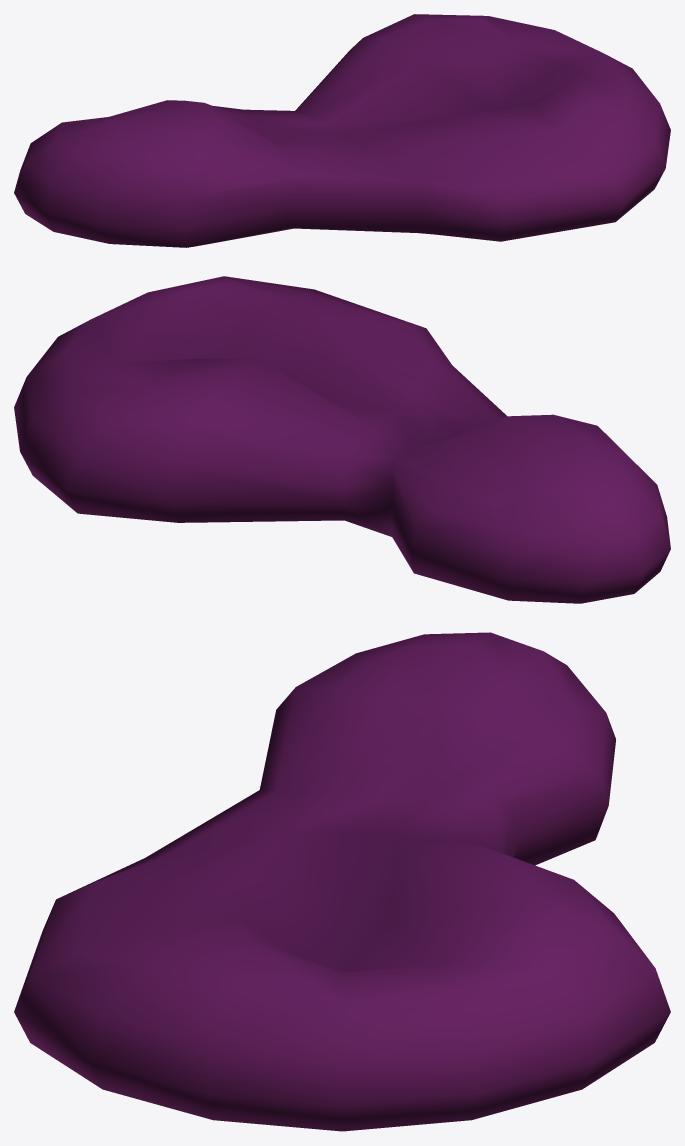
Rendered from Gum_Type4.fbx.
3 views of the same model, one above another, from view 1: azimuth 30°, elevation 25°; view 2: azimuth 150°, elevation 25°; view 3: azimuth 270°, elevation 25° (orthographic). The views are drawn at different scales.
Visible parts, largest first — view 1: Gum_Type4; view 2: Gum_Type4; view 3: Gum_Type4.
Part boxes in pixels (bbox=[...]): Gum_Type4: bbox=[14, 14, 670, 247]; Gum_Type4: bbox=[14, 276, 670, 603]; Gum_Type4: bbox=[14, 632, 670, 1131].
Bounding box in the file's own units: 32.69 × 5.36 × 21.34.
